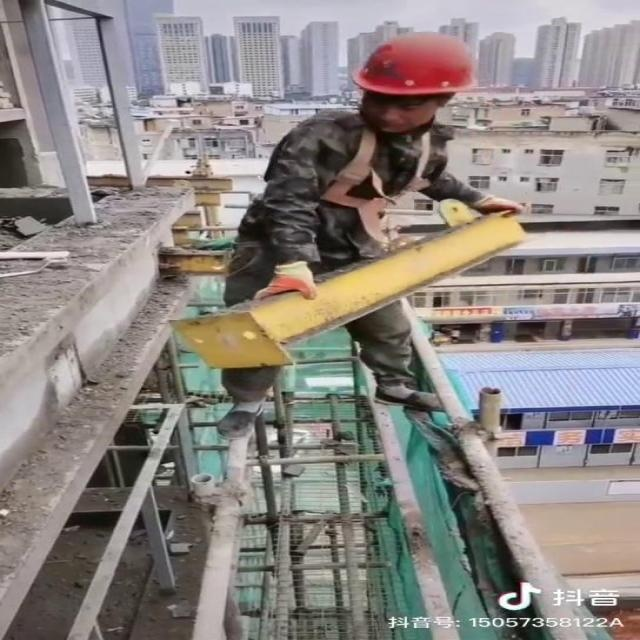Arnes_seguridad: (281, 110, 440, 243)
